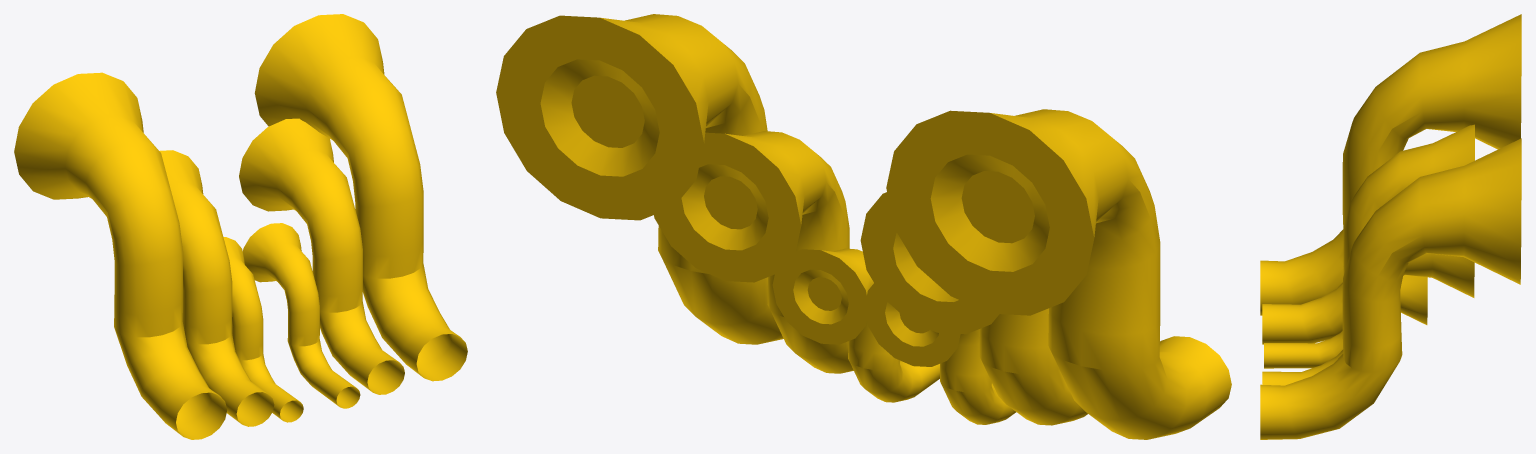
Rendered from UltraTurbo.fbx.
3 views of the same model, side by side, from view 1: azimuth 30°, elevation 25°; view 2: azimuth 150°, elevation 25°; view 3: azimuth 270°, elevation 25° (orthographic). The views are drawn at different scales.
Parts seen in each view (by area): view 1: UltraTurbo; view 2: UltraTurbo; view 3: UltraTurbo.
Part boxes in pixels (bbox=[...]): UltraTurbo: bbox=[14, 14, 467, 439]; UltraTurbo: bbox=[496, 14, 1231, 439]; UltraTurbo: bbox=[1260, 14, 1521, 439].
Bounding box in the file's own units: 214 × 156 × 124.
